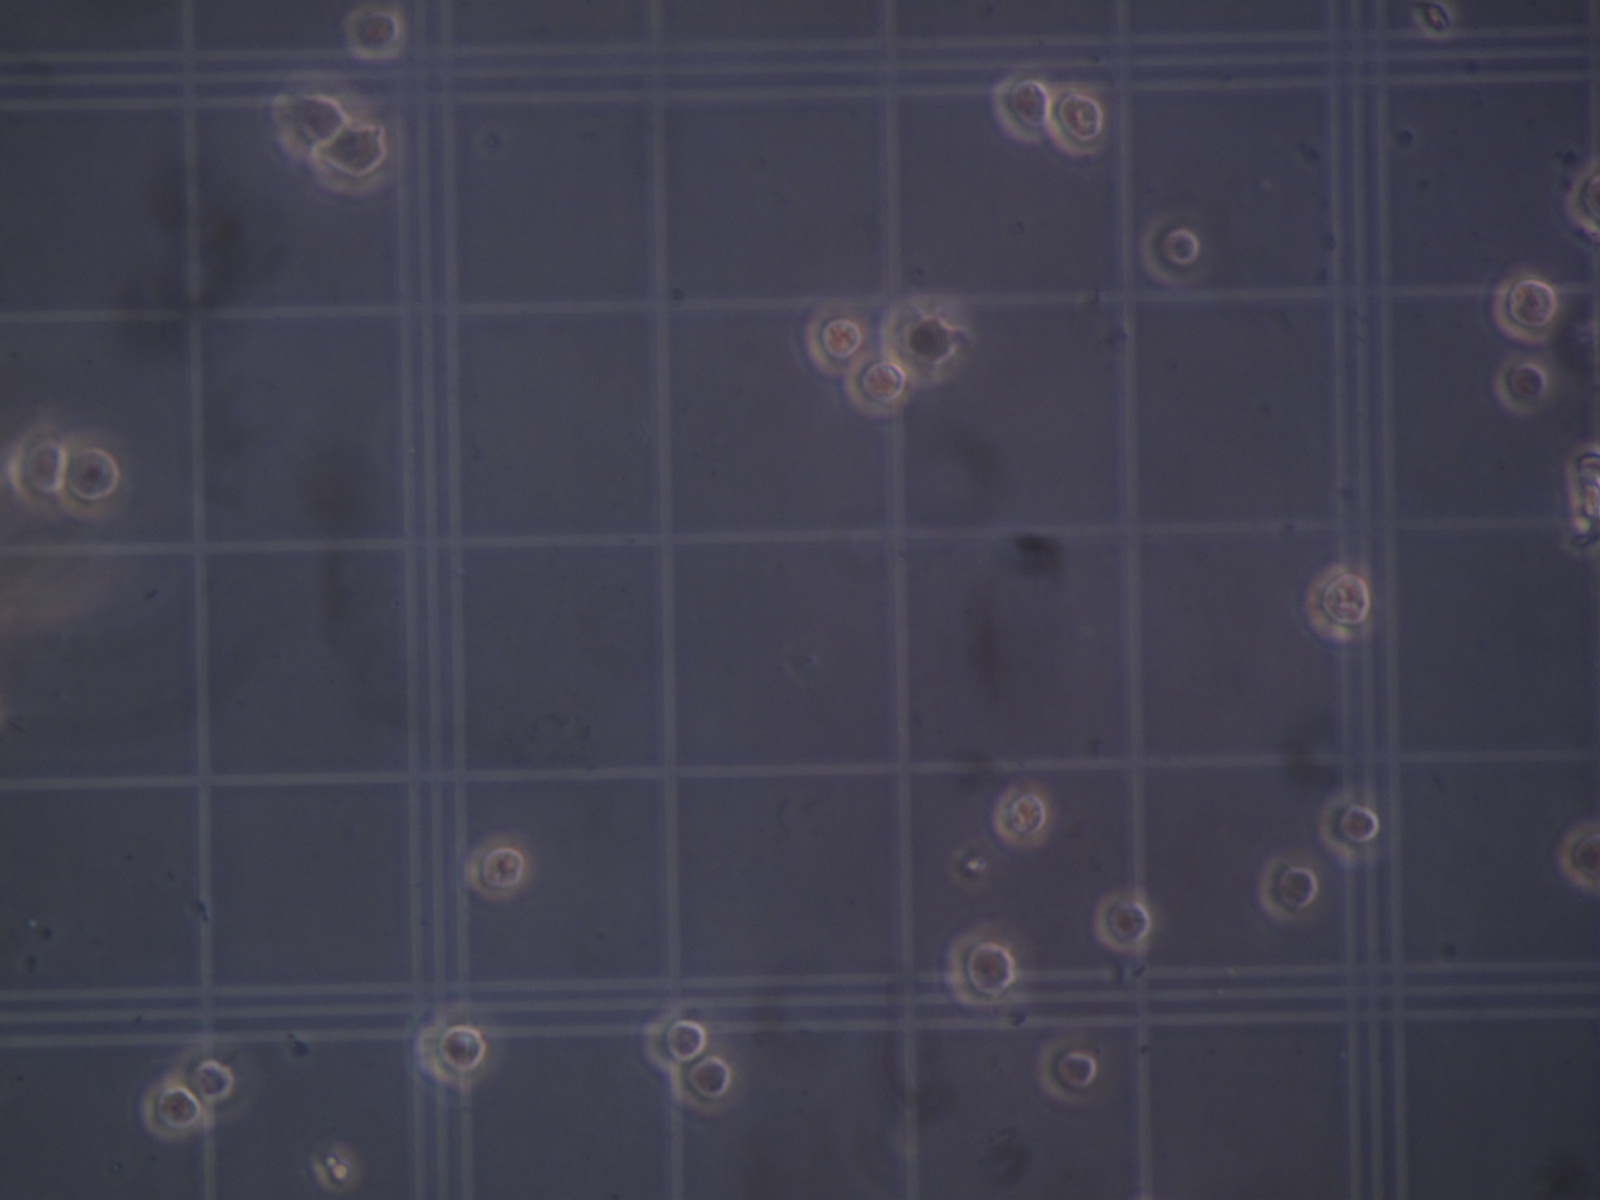hemo: (882, 303, 960, 386), (60, 430, 129, 521), (310, 120, 389, 195), (270, 87, 349, 160), (944, 929, 1017, 1008), (414, 1017, 491, 1089), (1304, 563, 1371, 642), (1490, 271, 1558, 344), (1317, 790, 1381, 863), (1139, 212, 1202, 286), (8, 429, 69, 504), (804, 305, 867, 377), (170, 1044, 236, 1111), (1036, 1036, 1099, 1105), (1257, 855, 1319, 924), (1047, 86, 1106, 158), (465, 836, 529, 901), (844, 354, 910, 418), (643, 1008, 709, 1071), (140, 1079, 208, 1141), (991, 74, 1052, 142), (670, 1056, 740, 1116), (1094, 892, 1153, 953), (991, 785, 1049, 847), (343, 4, 404, 61), (1493, 355, 1550, 416), (1565, 158, 1600, 239), (1558, 823, 1600, 892), (1409, 3, 1456, 40)
